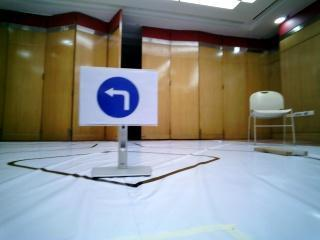left: (85, 64, 155, 129)
